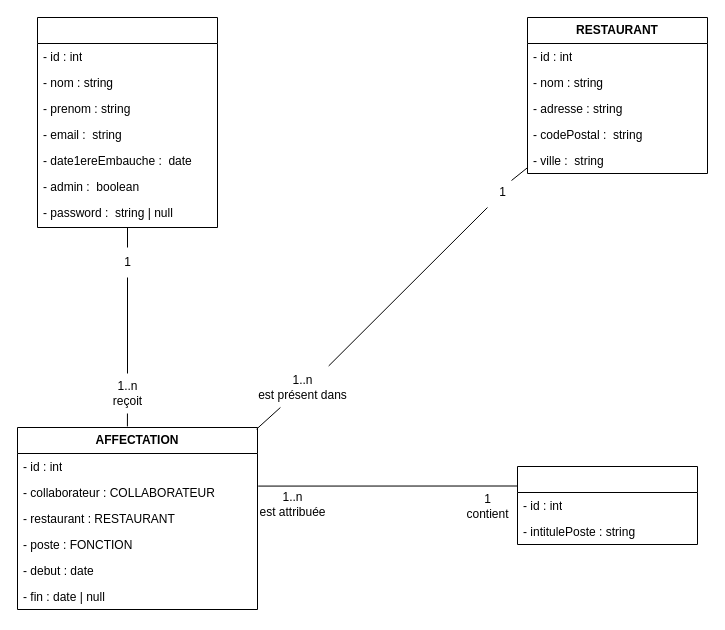
Image size: 725x630. Some labels were removed from this diagram. Each missing label, with the box of its shape:
COLLABORATEUR: (36, 16, 218, 228)
FONCTION: (516, 466, 698, 544)
